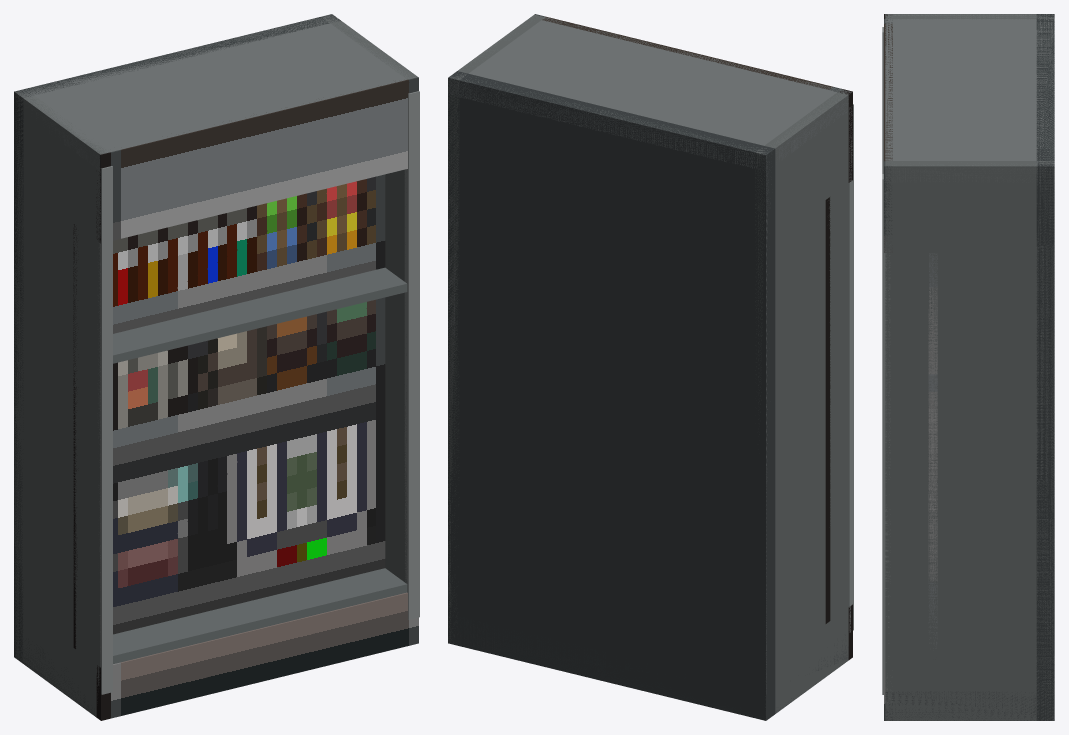
File: CMU3DReduxAU14CMBCIUTacticalMedicVendor.glb
3 views of the same model, side by side, from view 1: azimuth 30°, elevation 25°; view 2: azimuth 150°, elevation 25°; view 3: azimuth 270°, elevation 25° (orthographic).
Parts seen in each view (by area): view 1: source cabinet panel 2, left casing, source cabinet panel 0, closed roof, source cabinet panel 1, source cabinet panel 3, front upright (×2), right casing, shelf tray 2, shelf tray 1, closed cabinet back; view 2: closed cabinet back, left casing, closed roof, right casing, front upright, source cabinet panel 0, source cabinet panel 2, closed plinth and underside, source cabinet panel 1; view 3: right casing, closed roof, closed cabinet back, source cabinet panel 2, front upright, closed plinth and underside, source cabinet panel 0, source cabinet panel 1, left casing.
Part boxes in pixels (x1,y1,x2,y2): source cabinet panel 2: (73,297,385,648); left casing: (14,90,108,717); source cabinet panel 0: (96,77,418,243); closed roof: (16,14,417,170); source cabinet panel 1: (73,174,385,347); source cabinet panel 3: (96,592,418,720); front upright (×2): (97,91,419,694); right casing: (322,14,417,582); shelf tray 2: (113,568,407,664); shelf tray 1: (113,267,407,363); closed cabinet back: (14,14,340,663); closed cabinet back: (448,71,775,720); left casing: (755,89,851,719); closed roof: (448,15,849,171); right casing: (448,14,545,643); front upright: (849,104,853,632); source cabinet panel 0: (532,14,852,182); source cabinet panel 2: (825,321,830,623); closed plinth and underside: (448,617,848,720); source cabinet panel 1: (825,197,830,323); right casing: (885,161,1054,720); closed roof: (885,14,1054,182); closed cabinet back: (1036,14,1054,720); source cabinet panel 2: (928,374,937,659); front upright: (882,174,890,694); closed plinth and underside: (885,691,1054,720); source cabinet panel 0: (884,14,892,252); source cabinet panel 1: (928,253,937,374); left casing: (885,14,1054,19).
Bounding box in the file's own units: 1 × 1.7 × 0.478.
Materials: 10 (4 with a texture image).
